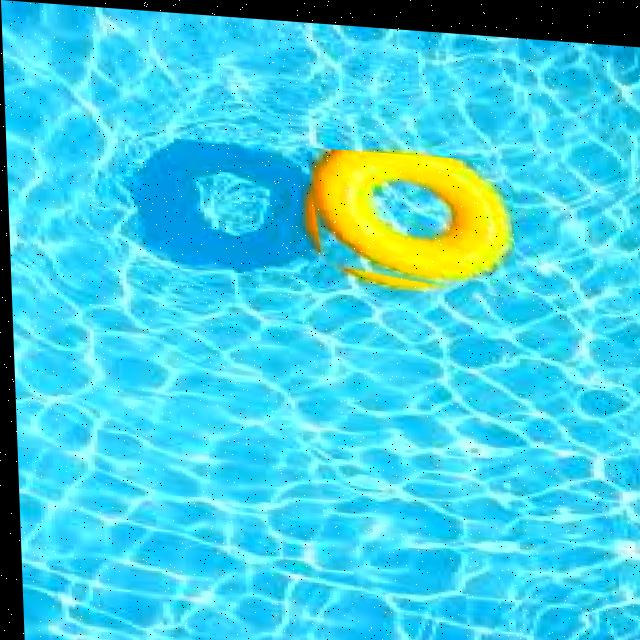litter: (310, 145, 512, 278)
